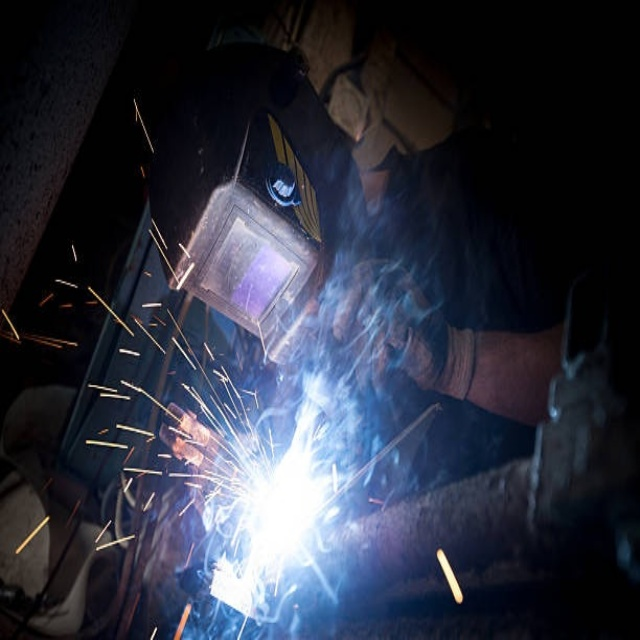Guantes: (332, 255, 481, 410)
